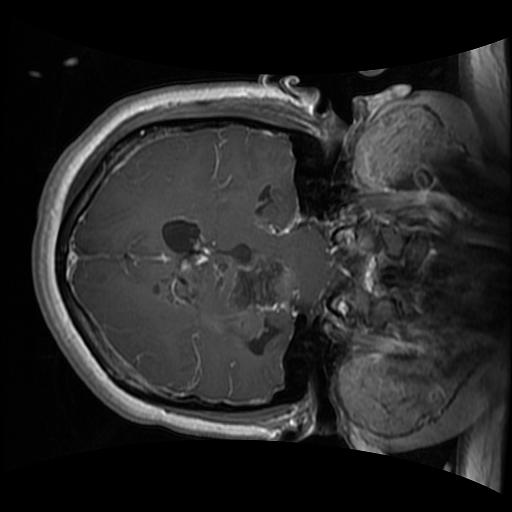glioma: (146, 214, 302, 357)
